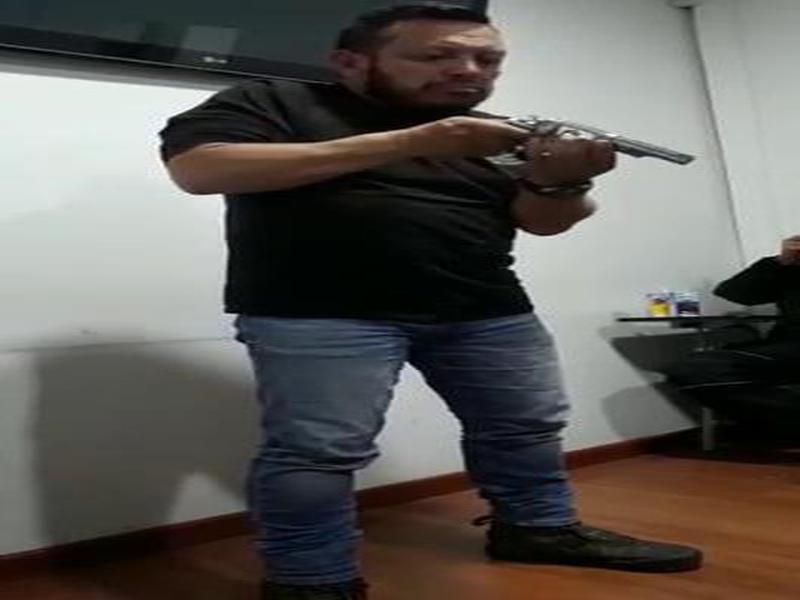Revolver: (470, 85, 703, 221)
